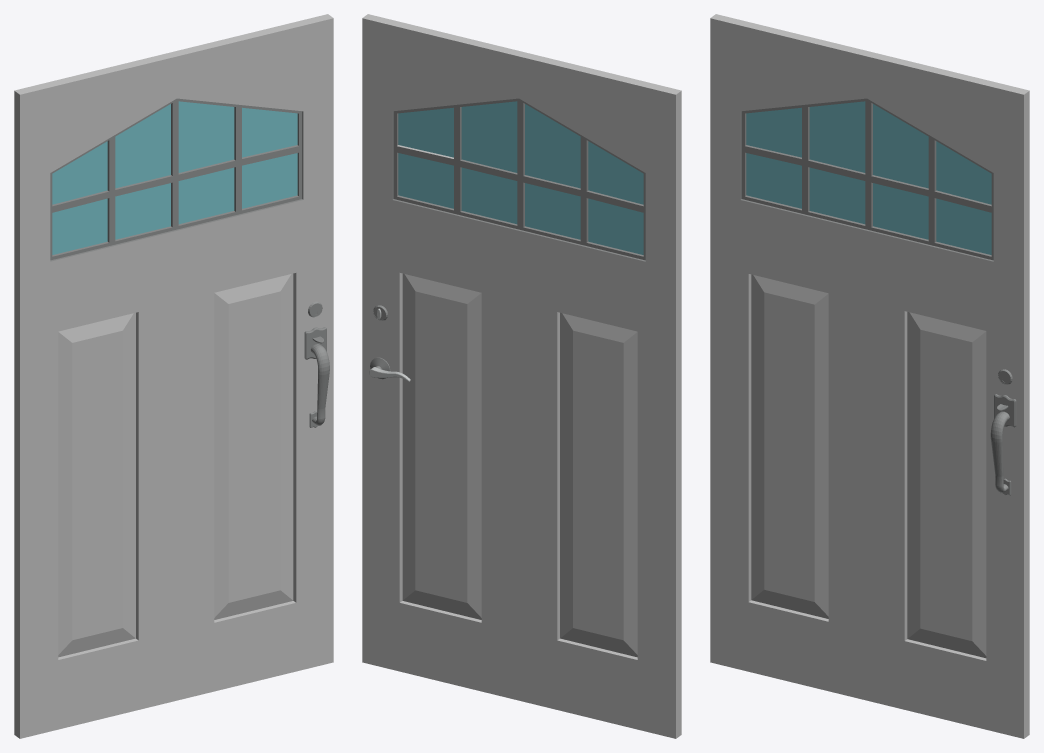
Rendered from Front door.fbx.
3 renders of one model, left to right at view 1: azimuth 30°, elevation 25°; view 2: azimuth 150°, elevation 25°; view 3: azimuth 330°, elevation 25°, orthographic.
Parts seen in each view (by area): view 1: front door; view 2: front door; view 3: front door.
Boxes of the visible parts, x1=… form: front door: x1=14, y1=14, x2=333, y2=738; front door: x1=362, y1=14, x2=681, y2=738; front door: x1=710, y1=14, x2=1029, y2=738.
Bounding box in the file's own units: 102 × 200 × 13.54.
